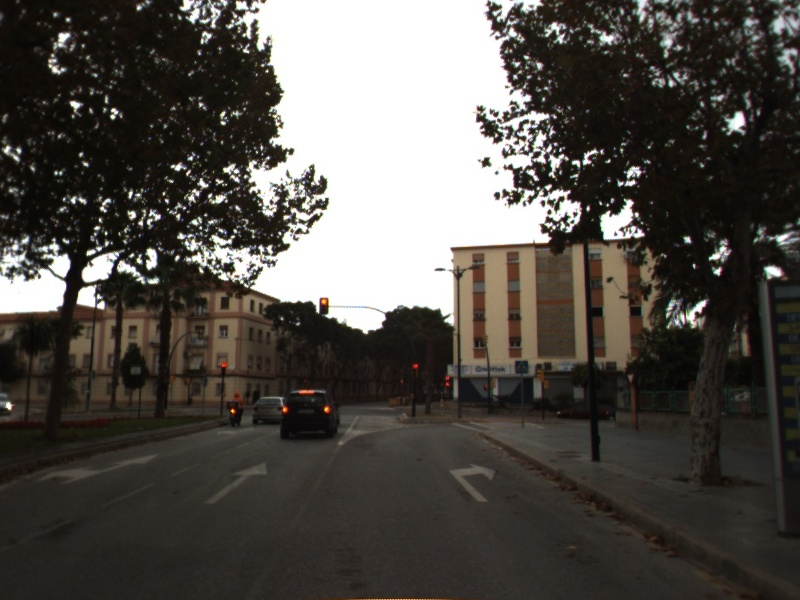RIGHT: (446, 461, 499, 504)
STRAIGHT: (203, 459, 269, 506)
STRAIGHT_LEFT: (31, 451, 162, 486)
